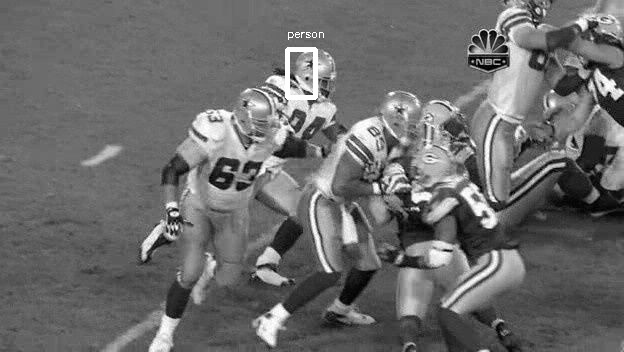person: (304, 47, 339, 92), (303, 47, 338, 92), (305, 47, 340, 92), (304, 46, 339, 91), (304, 48, 339, 93)
target_negative: (55, 99, 328, 231), (425, 81, 493, 215), (379, 183, 438, 294), (599, 153, 619, 232), (108, 331, 252, 339), (378, 338, 513, 344)
